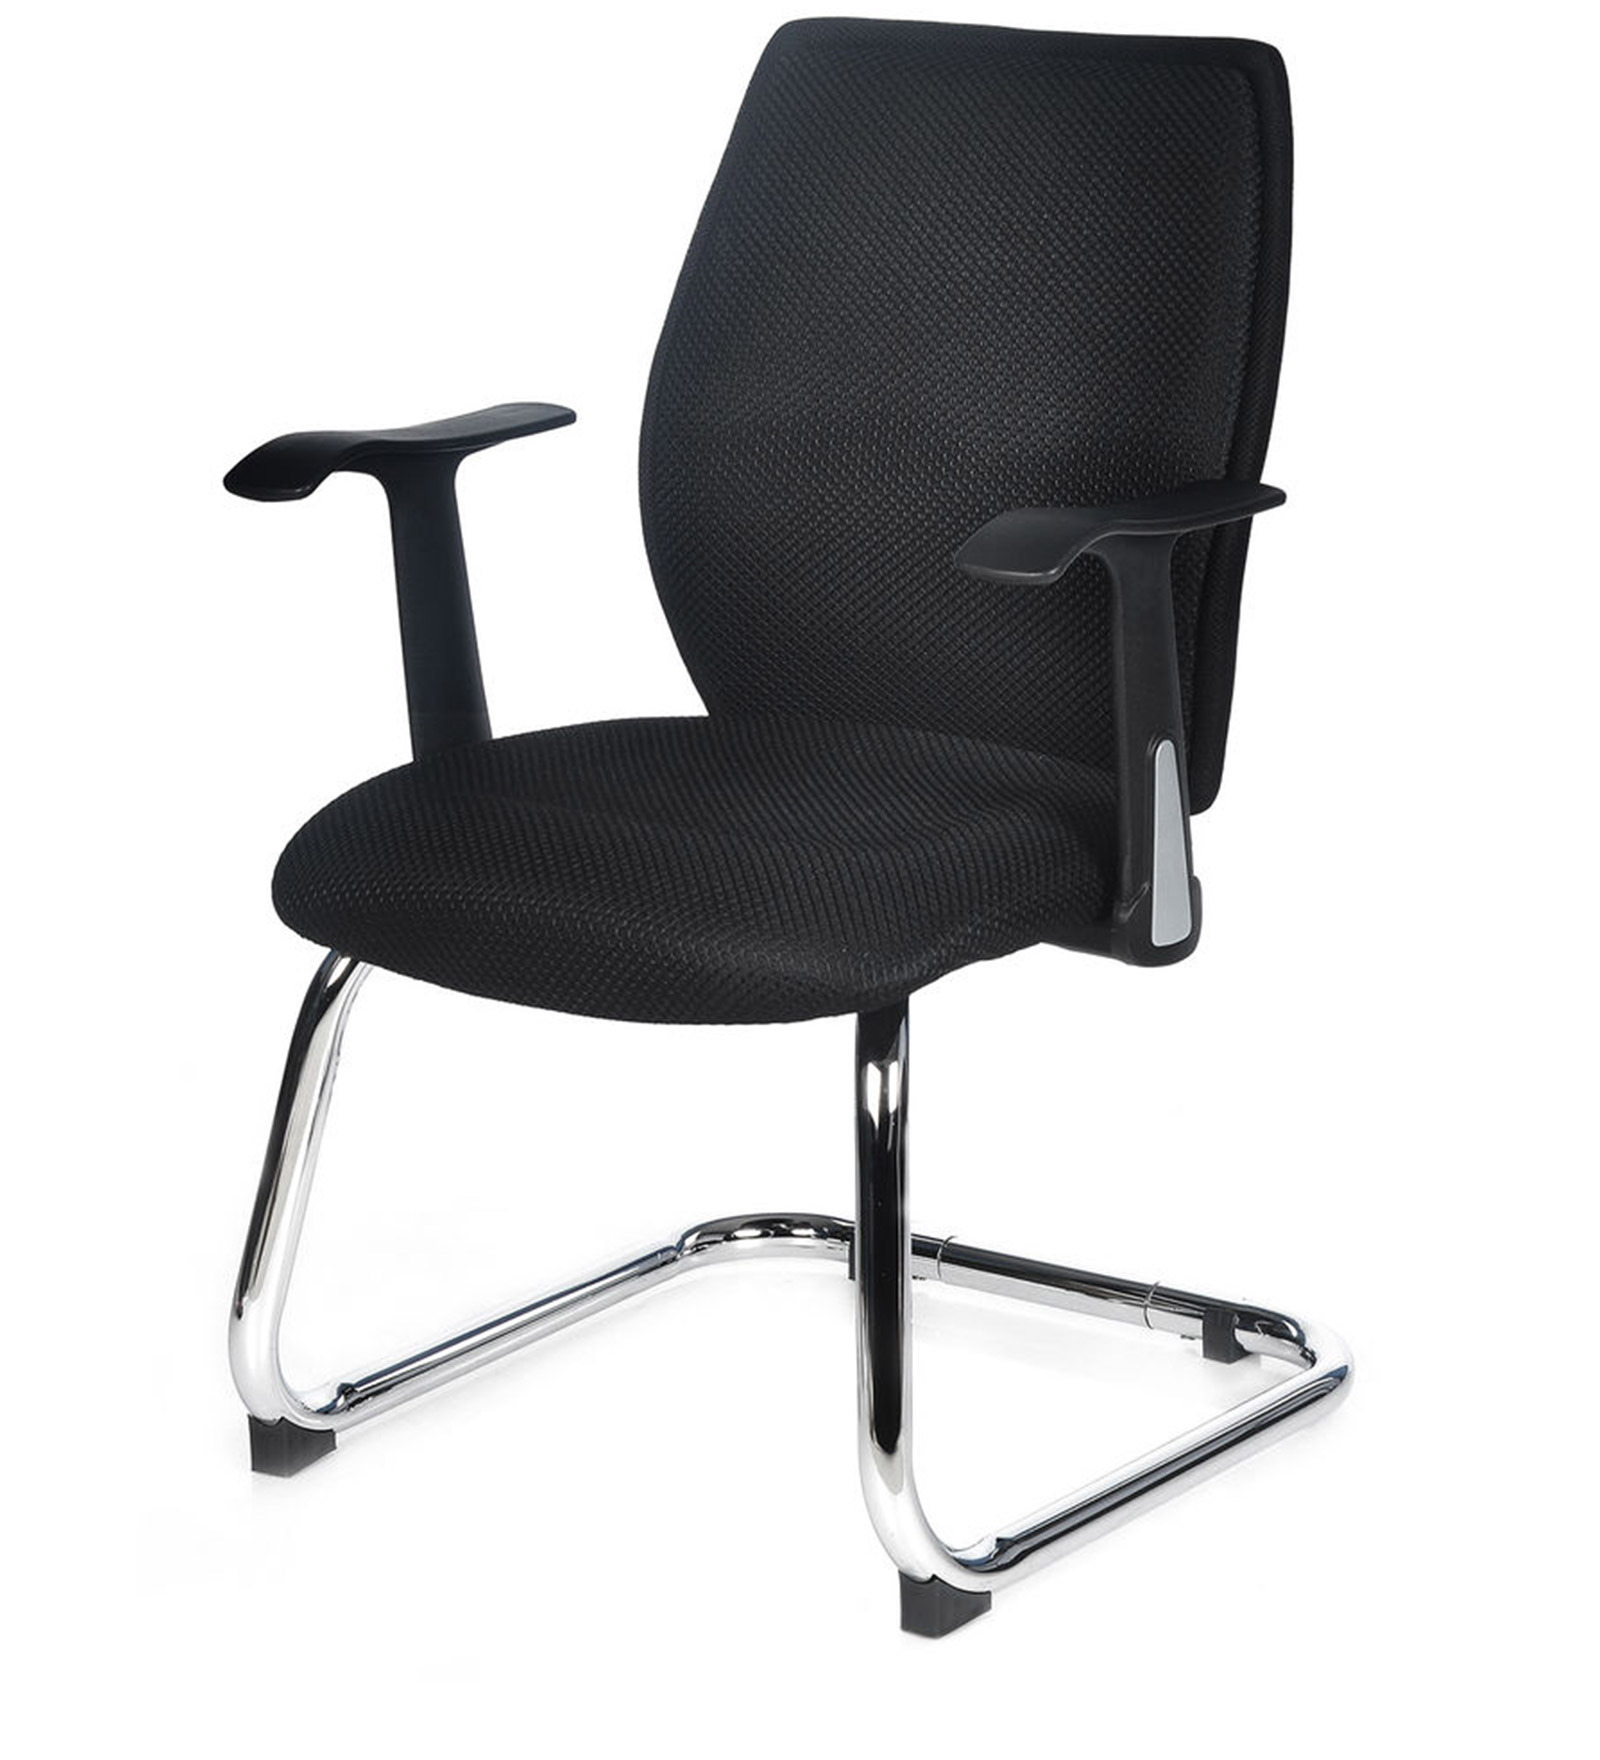Blaze Chair in Black Colour by Nilkamal: (205, 12, 1379, 1642)
